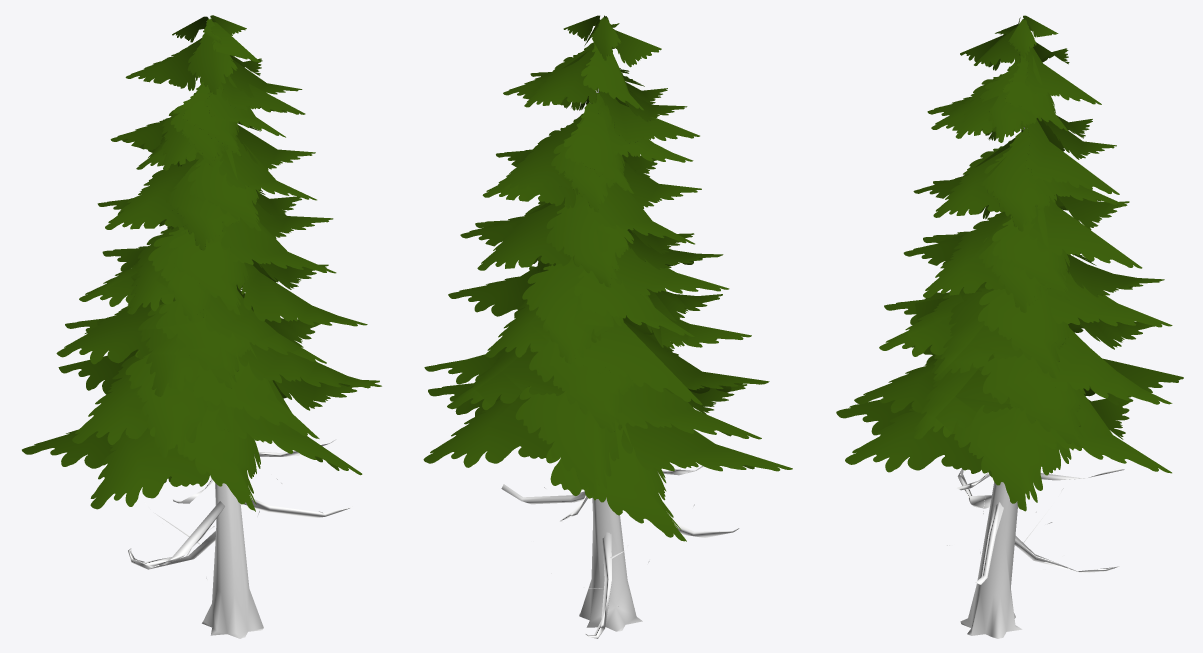
File: pine-4-distant.glb
3 views of the same model, side by side, from view 1: azimuth 30°, elevation 25°; view 2: azimuth 150°, elevation 25°; view 3: azimuth 270°, elevation 25° (orthographic). The views are drawn at different scales.
Visible parts, largest first — view 1: Pine_4; view 2: Pine_4; view 3: Pine_4.
Part boxes in pixels (x1=…): Pine_4: x1=22, y1=15, x2=381, y2=638; Pine_4: x1=423, y1=15, x2=792, y2=638; Pine_4: x1=836, y1=15, x2=1183, y2=638.
Bounding box in the file's own units: 5.8 × 10 × 5.37.
2 materials, 1 textured.
